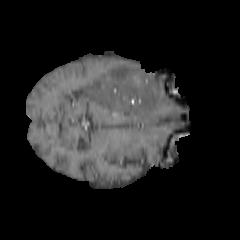glioma: (82, 63, 161, 118)
